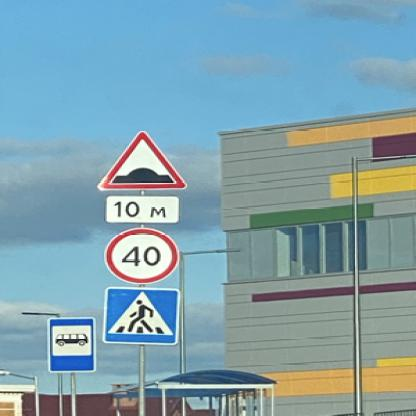crosswalk: (100, 285, 179, 344)
speedlimit: (103, 227, 176, 282)
